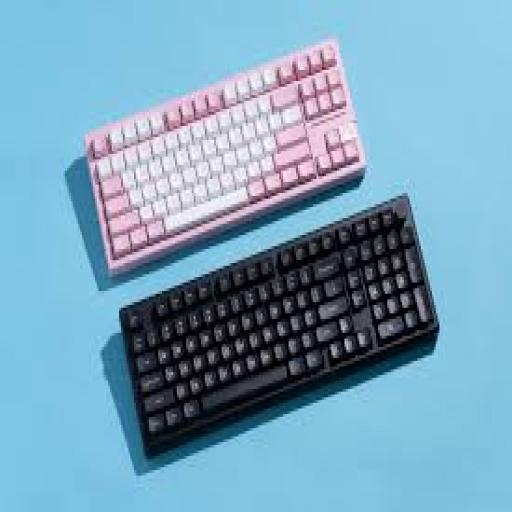keyboard: (119, 196, 438, 453), (88, 42, 365, 271)
